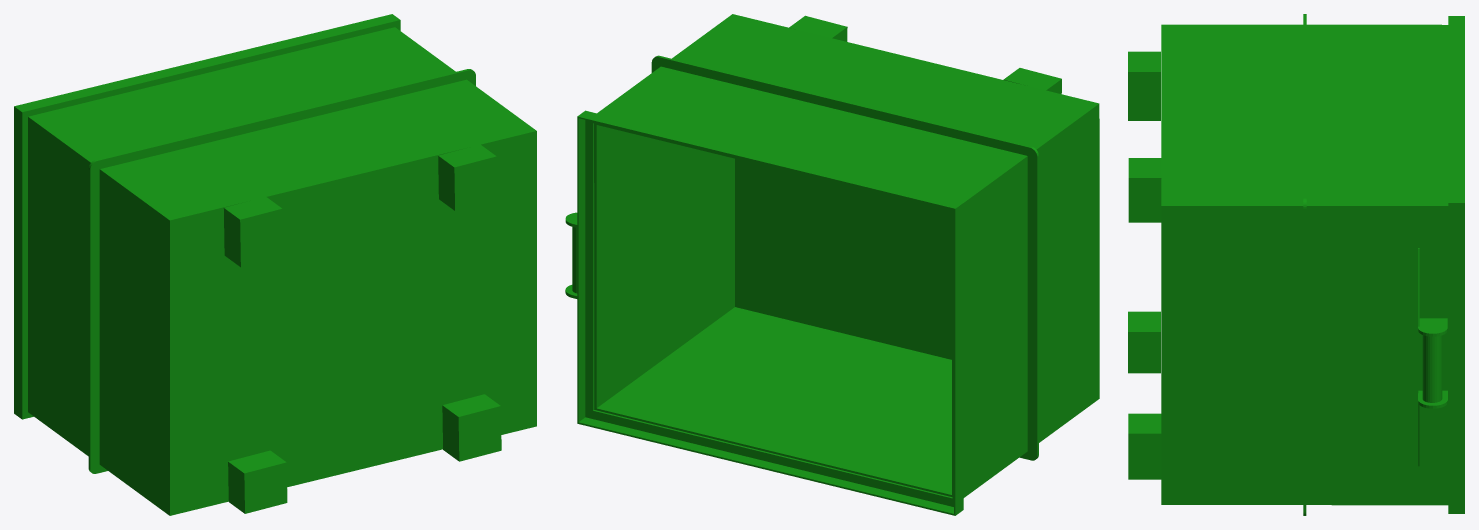
The picture shows the model from 3 angles, left to right: view 1: azimuth 30°, elevation 25°; view 2: azimuth 150°, elevation 25°; view 3: azimuth 270°, elevation 25°; orthographic projection.
Visible parts, largest first — view 1: node0; view 2: node0; view 3: node0.
Part boxes in pixels (x1=…): node0: x1=14, y1=14, x2=536, y2=515; node0: x1=565, y1=14, x2=1099, y2=515; node0: x1=1128, y1=14, x2=1464, y2=515.
Bounding box in the file's own units: 1.44 × 1.02 × 1.06.
